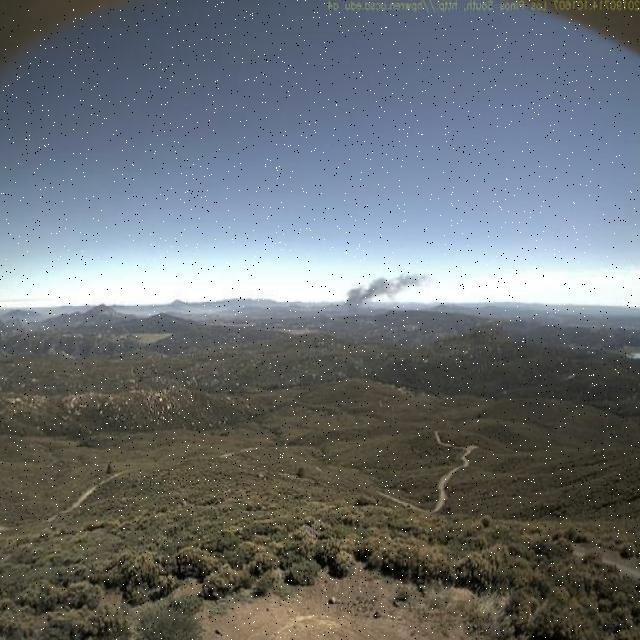smoke: (340, 264, 430, 315)
